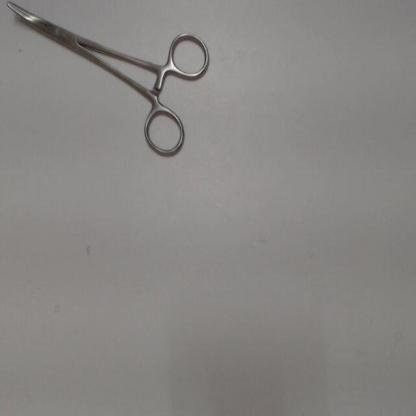Crile Artery Forceps: (4, 1, 215, 164)
